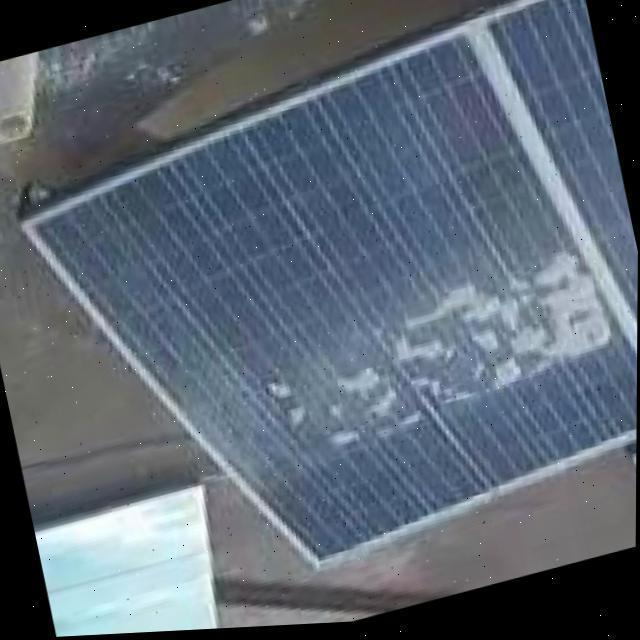Anomaly Solar Panel: (33, 0, 638, 630)
Snow: (251, 239, 624, 487)
